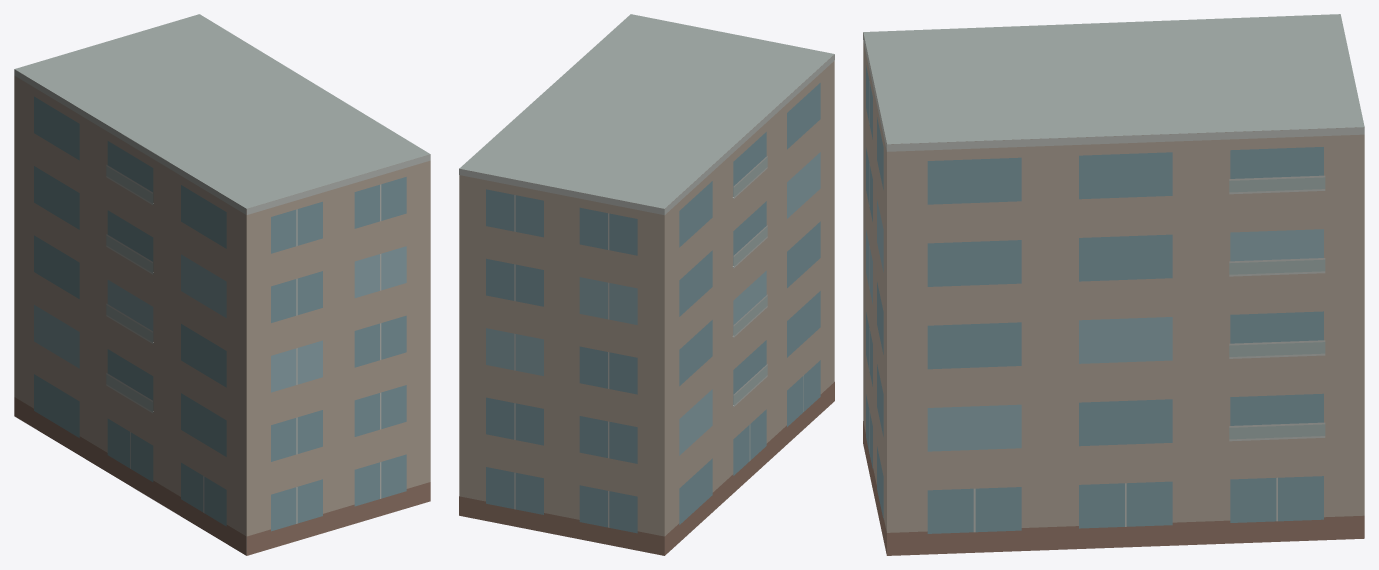
File: survey-upis-32955137.glb
3 renders of one model, left to right at view 1: azimuth 30°, elevation 25°; view 2: azimuth 150°, elevation 25°; view 3: azimuth 270°, elevation 25°, orthographic. The views are drawn at different scales.
Visible parts, largest first — view 1: survey-upis-32955137.tmp; view 2: survey-upis-32955137.tmp; view 3: survey-upis-32955137.tmp.
Boxes of the visible parts, left/top/right/bottom form: survey-upis-32955137.tmp: left=14, top=14, right=430, bottom=555; survey-upis-32955137.tmp: left=459, top=14, right=834, bottom=555; survey-upis-32955137.tmp: left=863, top=14, right=1364, bottom=555.
Bounding box in the file's own units: 9.04 × 13.3 × 14.7.
